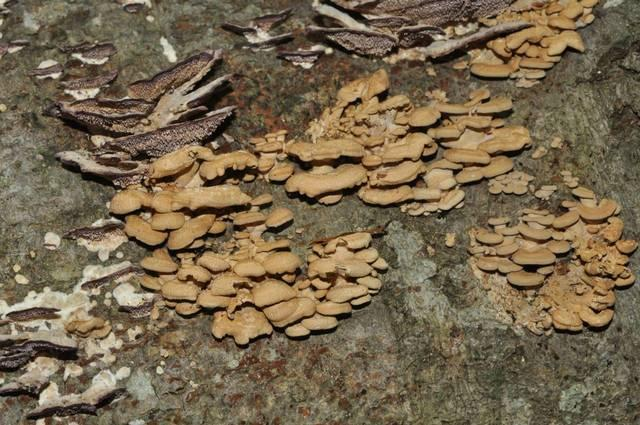Non-edible Mushroom: (292, 0, 640, 328), (47, 21, 364, 343), (0, 294, 129, 425)
